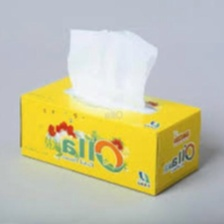book: (14, 70, 206, 200)
tissue: (61, 22, 164, 116)
